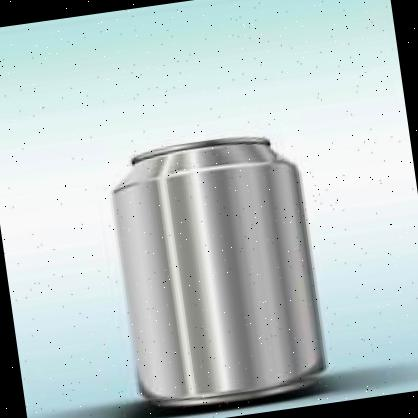can: (103, 124, 339, 418)
